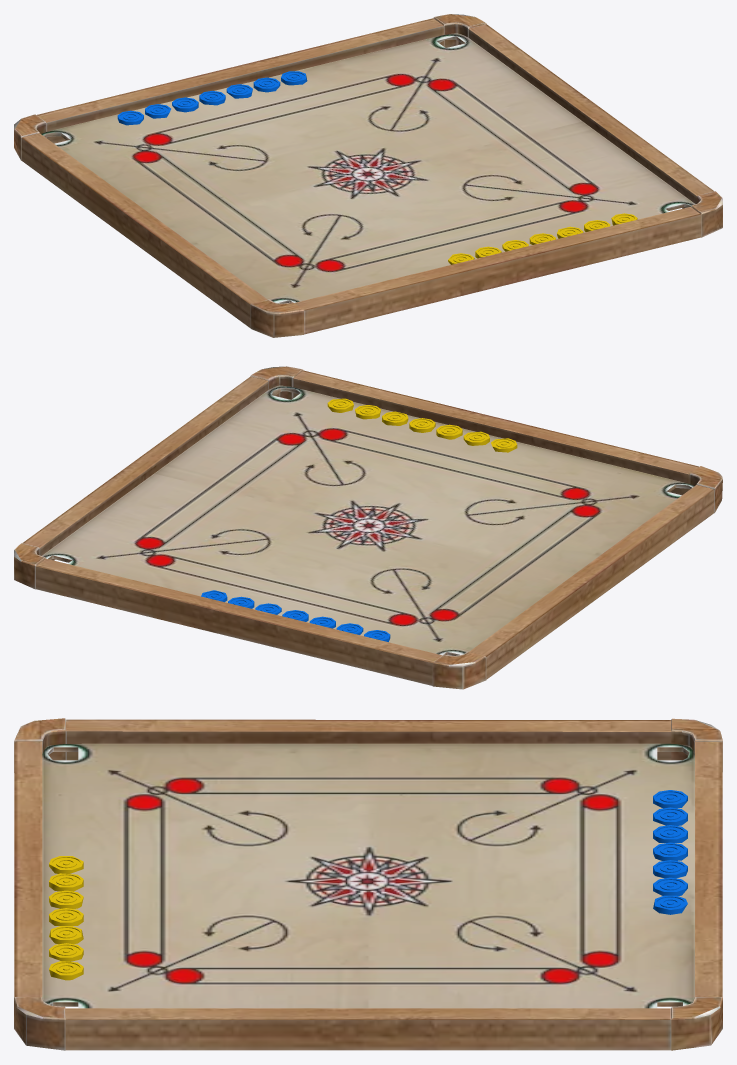
The model's file is carrom-board.mid.glb.
3 views of the same model, one above another, from view 1: azimuth 30°, elevation 25°; view 2: azimuth 150°, elevation 25°; view 3: azimuth 270°, elevation 25° (orthographic). The views are drawn at different scales.
Parts seen in each view (by area): view 1: Object_2, Object_4, Object_3; view 2: Object_2, Object_3, Object_4; view 3: Object_2, Object_4, Object_3.
Part boxes in pixels (x1,y1,x2,y2): Object_2: [14, 14, 722, 337]; Object_4: [117, 71, 307, 125]; Object_3: [448, 213, 637, 264]; Object_2: [14, 366, 722, 689]; Object_3: [327, 398, 517, 452]; Object_4: [201, 590, 390, 641]; Object_2: [14, 718, 722, 1050]; Object_4: [653, 790, 687, 914]; Object_3: [49, 856, 83, 980].
Bounding box in the file's own units: 0.74 × 0.0381 × 0.7386.
3 materials, 1 textured.
